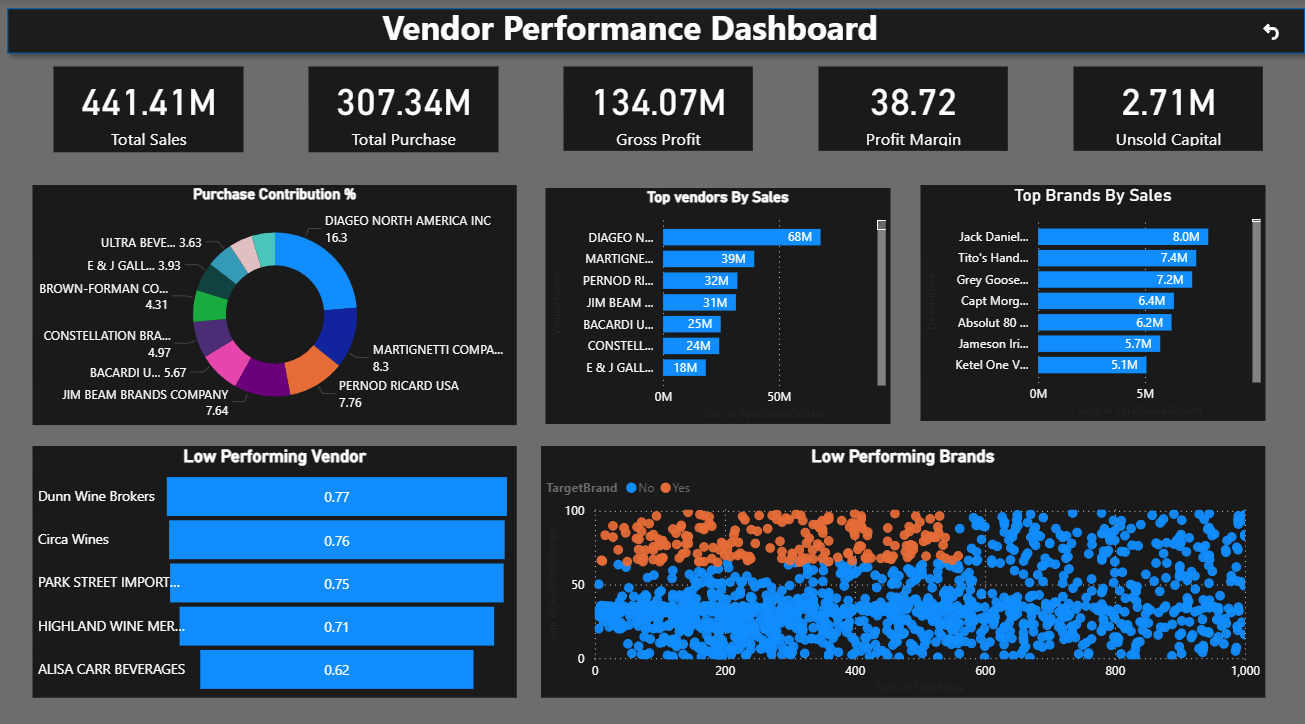

Layout of this report page (visuals, bound fields, positions):
{"tool":"powerbi","page":{"name":"Dashboard","canvas":[1280,720],"ordinal":0},"visuals":[{"type":"shape","box":[0,0,1279.5,62.1],"z":0},{"type":"textbox","box":[302.8,0,622.3,72.7],"z":1000},{"type":"card","fields":{"Values":["Sum(vendor_sales_summary.TotalSalesDollars)"]},"box":[53.4,66.2,184.7,83.3],"z":7000},{"type":"card","fields":{"Values":["Sum(vendor_sales_summary.TotalPurchaseDollars)"]},"box":[301.6,66.2,184.7,83.3],"z":8000},{"type":"card","fields":{"Values":["Sum(vendor_sales_summary.GrossProfit)"]},"box":[549.8,65.9,184.1,82],"z":9000},{"type":"card","fields":{"Values":["Avg(vendor_sales_summary.ProfitMargin)"]},"box":[797.3,65.9,184.1,82],"z":10000},{"type":"card","fields":{"Values":["Sum(vendor_sales_summary.UnsoldCapital)"]},"box":[1044.7,65.9,184.1,82],"z":11000},{"type":"donutChart","title":"Purchase Contribution %","fields":{"Y":["Sum(PurchaseContribution.PurchaseContribution%)"],"Category":["PurchaseContribution.VendorName"]},"box":[33.3,180.7,470.8,233],"z":14000},{"type":"barChart","title":"Top vendors By Sales","fields":{"Category":["vendor_sales_summary.VendorName"],"Y":["Sum(vendor_sales_summary.TotalSalesDollars)"]},"box":[532.7,184.1,335.3,229.6],"z":17000},{"type":"barChart","title":"Top Brands By Sales","fields":{"Category":["vendor_sales_summary.Description"],"Y":["Sum(vendor_sales_summary.TotalSalesDollars)"]},"box":[896.7,180.4,335.3,229.6],"z":18000},{"type":"funnel","title":"Low Performing Vendor","fields":{"Category":["LowTurnoverVendor.VendorName"],"Y":["Sum(LowTurnoverVendor.AvgStockTurnOver)"]},"box":[33.3,435.1,470.8,244.9],"z":19000},{"type":"scatterChart","title":"Low Performing Brands","fields":{"X":["Sum(BrandPerformance.TotalSales)"],"Category":["BrandPerformance.Description"],"Series":["BrandPerformance.TargetBrand"],"Y":["Sum(BrandPerformance.AvgProfitMargin)"]},"box":[527.9,435.1,703.8,244.9],"z":20000},{"type":"actionButton","box":[1216.6,11.5,50.3,40.3],"z":20001}]}

Visuals, with their boxes in screenshot pixels (x1, y1, x2, y2), scaled from the page's 1280x720 canvas onto the 1305x724 screenshot:
shape: [0,0,1304,62]
textbox: [309,0,943,73]
card - Sum(vendor_sales_summary.TotalSalesDollars): [54,67,243,150]
card - Sum(vendor_sales_summary.TotalPurchaseDollars): [307,67,496,150]
card - Sum(vendor_sales_summary.GrossProfit): [561,66,748,149]
card - Avg(vendor_sales_summary.ProfitMargin): [813,66,1001,149]
card - Sum(vendor_sales_summary.UnsoldCapital): [1065,66,1253,149]
"Purchase Contribution %" donutChart: [34,182,514,416]
"Top vendors By Sales" barChart: [543,185,885,416]
"Top Brands By Sales" barChart: [914,181,1256,412]
"Low Performing Vendor" funnel: [34,438,514,684]
"Low Performing Brands" scatterChart: [538,438,1256,684]
actionButton: [1240,12,1292,52]
